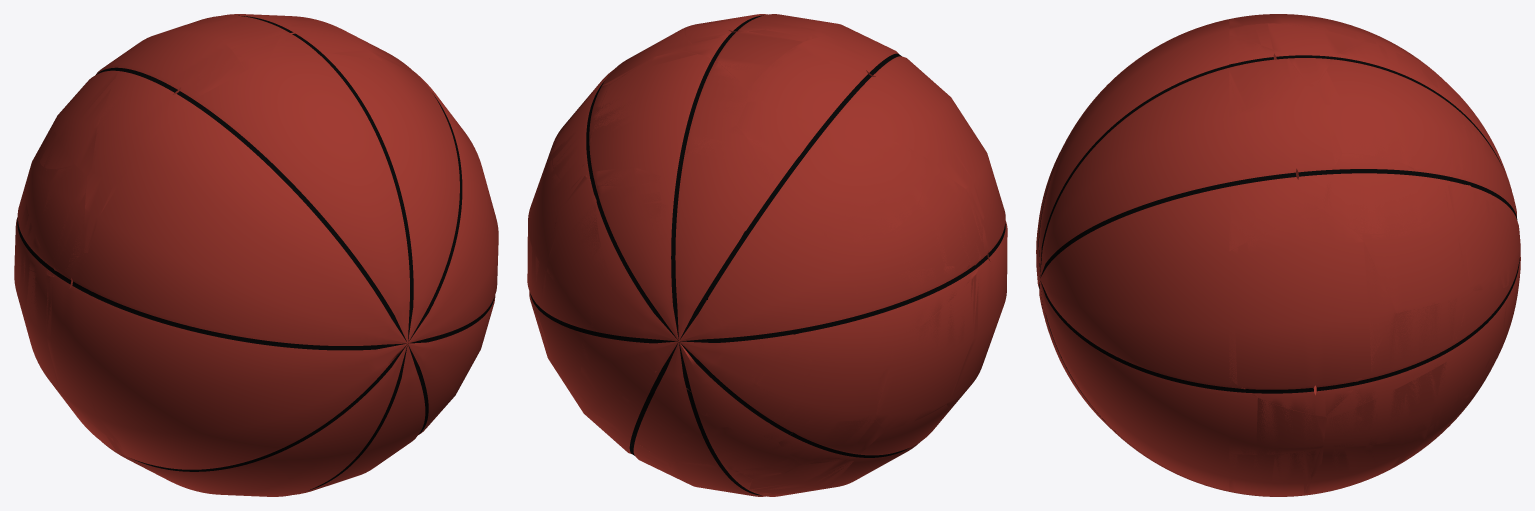
The model's file is kırılanbasket.fbx.
3 views of the same model, side by side, from view 1: azimuth 30°, elevation 25°; view 2: azimuth 150°, elevation 25°; view 3: azimuth 270°, elevation 25° (orthographic).
Visible parts, largest first — view 1: Sphere, Sphere_cell.082, Sphere_cell, Sphere_cell.025, Sphere_cell.083, Sphere_cell.034, Sphere_cell.089, Sphere_cell.060, Sphere_cell.051, Sphere_cell.037, Sphere_cell.002, Sphere_cell.040 (+2 smaller); view 2: Sphere, Sphere_cell.082, Sphere_cell.039, Sphere_cell.083, Sphere_cell.035, Sphere_cell.025, Sphere_cell.060, Sphere_cell.005, Sphere_cell, Sphere_cell.050, Sphere_cell.053, Sphere_cell.037 (+17 smaller); view 3: Sphere, Sphere_cell.022, Sphere_cell.002, Sphere_cell.039, Sphere_cell.048, Sphere_cell.042, Sphere_cell.034, Sphere_cell.043, Sphere_cell.025, Sphere_cell.086, Sphere_cell.041, Sphere_cell.035 (+4 smaller).
Part boxes in pixels (x1,y1,x2,y2): Sphere: (14,15,498,496); Sphere_cell.082: (92,27,245,182); Sphere_cell: (46,254,117,440); Sphere_cell.025: (191,16,306,70); Sphere_cell.083: (59,67,120,174); Sphere_cell.034: (268,24,381,62); Sphere_cell.089: (84,172,119,252); Sphere_cell.060: (14,264,58,390); Sphere_cell.051: (43,166,86,271); Sphere_cell.037: (17,204,55,276); Sphere_cell.002: (306,22,462,129); Sphere_cell.040: (40,131,73,168); Sphere: (527,14,1007,496); Sphere_cell.082: (749,35,952,166); Sphere_cell.039: (589,50,747,172); Sphere_cell.083: (786,128,940,232); Sphere_cell.035: (547,176,613,324); Sphere_cell.025: (681,27,825,89); Sphere_cell.060: (875,274,976,429); Sphere_cell.005: (737,100,816,175); Sphere_cell: (946,226,994,411); Sphere_cell.050: (597,185,661,281); Sphere_cell.053: (778,419,884,464); Sphere_cell.037: (856,265,977,344); Sphere: (1036,16,1520,496); Sphere_cell.022: (1229,208,1395,415); Sphere_cell.002: (1229,81,1340,251); Sphere_cell.039: (1316,42,1452,184); Sphere_cell.048: (1322,153,1445,233); Sphere_cell.042: (1229,381,1326,454); Sphere_cell.034: (1229,36,1303,116); Sphere_cell.043: (1328,362,1458,446); Sphere_cell.025: (1229,23,1362,86); Sphere_cell.086: (1327,298,1465,417); Sphere_cell.041: (1304,428,1428,495); Sphere_cell.035: (1446,178,1511,290).
Size of the model in its own units: 39.59 by 39.55 by 39.98.
